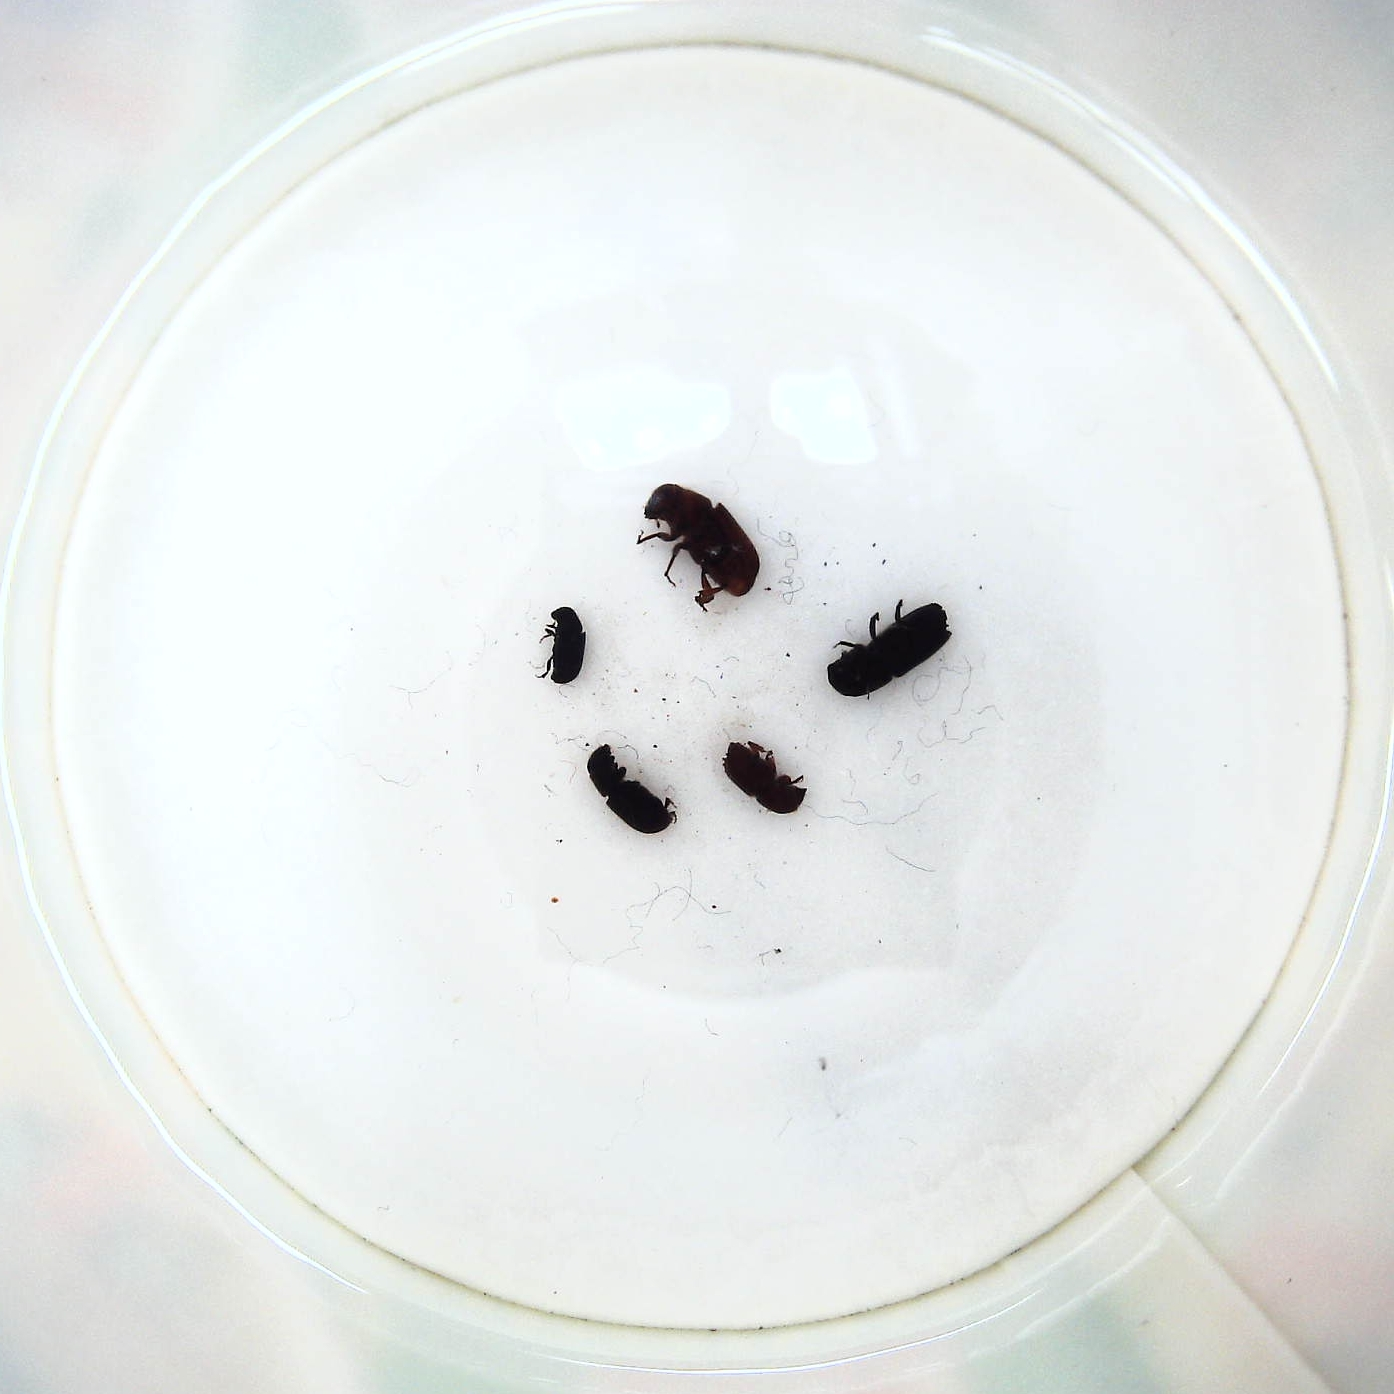Boerner: (825, 591, 959, 701)
Leconte: (632, 483, 762, 608)
armandi: (583, 743, 688, 837)
coleoptera: (537, 601, 591, 691)
linnaeus: (715, 735, 808, 818)
